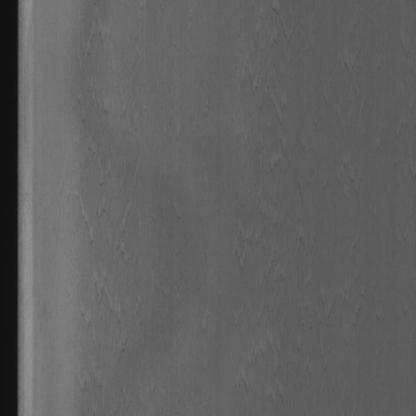silk_spot: (71, 20, 138, 366)
